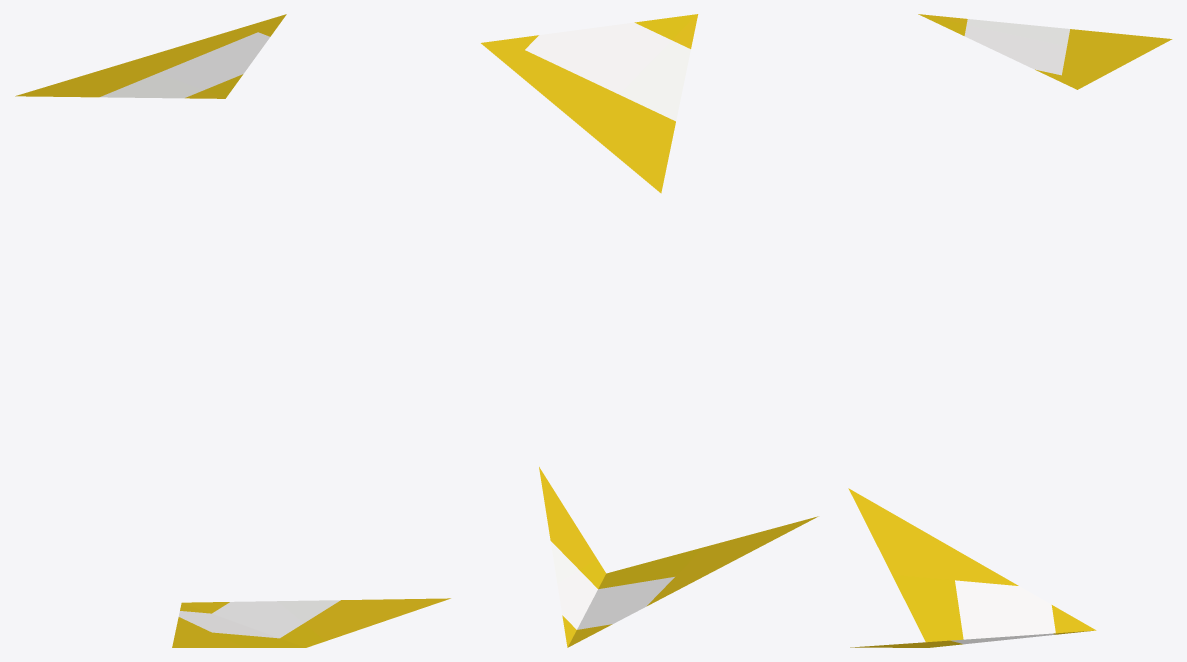
The model's file is mp-01078-geode.glb.
3 views of the same model, side by side, from view 1: azimuth 30°, elevation 25°; view 2: azimuth 150°, elevation 25°; view 3: azimuth 270°, elevation 25° (orthographic). The views are drawn at different scales.
Parts seen in each view (by area): view 1: Node; view 2: Node; view 3: Node.
Part boxes in pixels (bbox=[...]): Node: bbox=[15, 14, 450, 647]; Node: bbox=[481, 14, 818, 647]; Node: bbox=[848, 14, 1172, 647].
Bounding box in the file's own units: 0.2177 × 0.4301 × 0.2126.
1 material, 1 textured.
